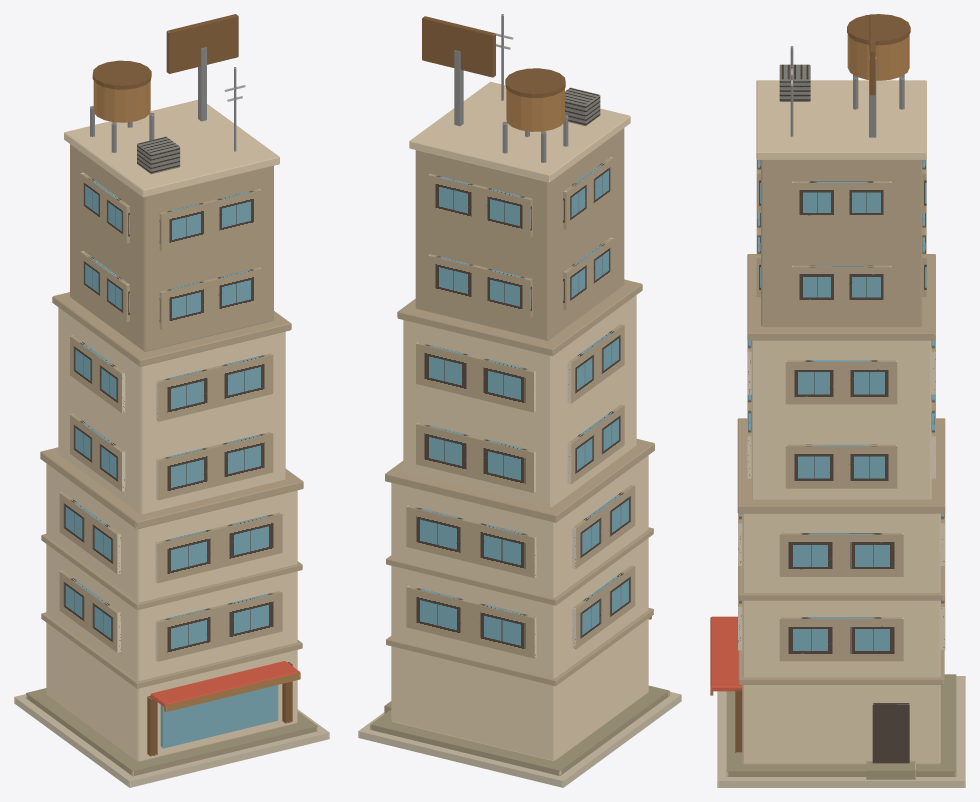
Rendered from city.glb.
3 renders of one model, left to right at view 1: azimuth 30°, elevation 25°; view 2: azimuth 150°, elevation 25°; view 3: azimuth 270°, elevation 25°, orthographic. The views are drawn at different scales.
Visible parts, largest first — view 1: CityBuilding, Lv2, Lv1; view 2: CityBuilding, Lv2, Lv1; view 3: CityBuilding, Lv2, Lv1.
Part boxes in pixels (x1=…): CityBuilding: x1=14, y1=447, x2=329, y2=787; Lv2: x1=64, y1=14, x2=279, y2=351; Lv1: x1=52, y1=292, x2=291, y2=514; CityBuilding: x1=358, y1=439, x2=681, y2=787; Lv2: x1=409, y1=14, x2=630, y2=340; Lv1: x1=397, y1=279, x2=642, y2=507; CityBuilding: x1=710, y1=418, x2=965, y2=787; Lv2: x1=756, y1=14, x2=926, y2=326; Lv1: x1=747, y1=254, x2=935, y2=499.
Bounding box in the file's own units: 8 × 25.85 × 8.23.
Materials: 1 (1 with a texture image).
